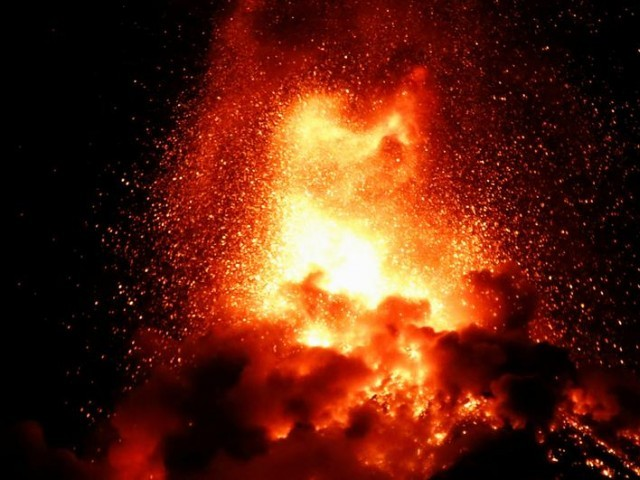Fire: (128, 325, 592, 445), (214, 185, 519, 315), (272, 89, 442, 161)
